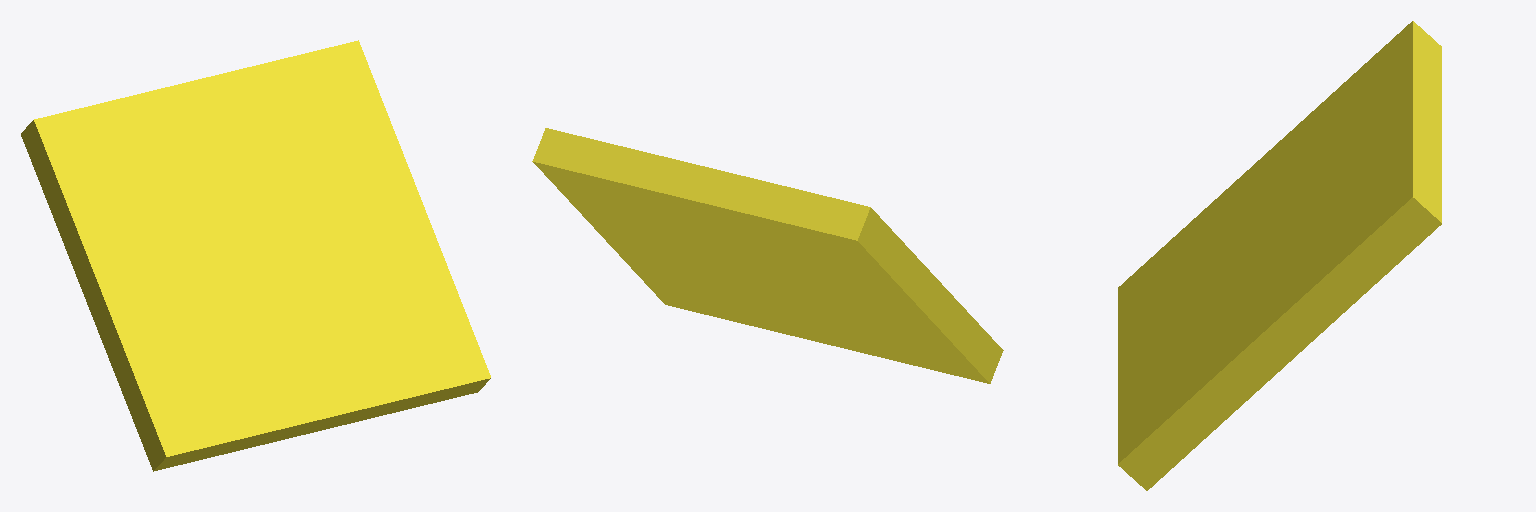
The robot description file, URDF, robot "panda":
<?xml version="1.0" encoding="utf-8"?>
<!-- =================================================================================== -->
<!-- |    This document was autogenerated by xacro from franka_description/robots/panda_arm_hand.urdf.xacro | -->
<!-- |    EDITING THIS FILE BY HAND IS NOT RECOMMENDED                                 | -->
<!-- =================================================================================== -->
<robot name="panda">
  <link name="world" />
  <joint name="ground_joint" type="fixed">
        <origin xyz="0 0 0" rpy="0 0 0" />
        <parent link="world" />
        <child link="panda_link0" />
    </joint>
  <link name="panda_link0">
    <visual>
      <geometry>
        <mesh filename="./meshes/visual/link0.dae"/>
      </geometry>
    </visual>
    <collision>
      <geometry>
        <mesh filename="./meshes/collision/link0.stl"/>
      </geometry>
    </collision>

    <inertial>
        <mass value="2.92" />
        <origin xyz="-0.025566 -2.88e-05 0.057332" rpy="0 0 0" />
        <inertia ixx="0.00782229414331" ixy="-1.56191622996e-05" ixz="-0.00126005738123" iyy="0.0109027971813" iyz="1.08233858202e-05" izz="0.0102355503949" />
      </inertial>
  </link>
  <link name="panda_link1">
    <visual>
      <geometry>
        <mesh filename="./meshes/visual/link1.dae"/>
      </geometry>
    </visual>
    <collision>
      <geometry>
        <mesh filename="./meshes/collision/link1.stl"/>
      </geometry>
    </collision>
    <inertial>
        <mass value="2.74" />
        <origin xyz="0 -0.0324958 -0.0675818" rpy="0 0 0" />
        <inertia ixx="0.0180416958283" ixy="0.0" ixz="0.0" iyy="0.0159136071891" iyz="0.0046758424612" izz="0.00620690827127" />
      </inertial>
  </link>
  <joint name="panda_joint1" type="revolute">
    <safety_controller k_position="100.0" k_velocity="40.0" soft_lower_limit="-2.8973" soft_upper_limit="2.8973"/>
    <origin rpy="0 0 0" xyz="0 0 0.333"/>
    <parent link="panda_link0"/>
    <child link="panda_link1"/>
    <axis xyz="0 0 1"/>
    <limit effort="87" lower="-2.8973" upper="2.8973" velocity="2.1750"/>
  </joint>
  <link name="panda_link2">
    <visual>
      <geometry>
        <mesh filename="./meshes/visual/link2.dae"/>
      </geometry>
    </visual>
    <collision>
      <geometry>
        <mesh filename="./meshes/collision/link2.stl"/>
      </geometry>
    </collision>
    <inertial>
        <mass value="2.74" />
        <origin xyz="0 -0.06861 0.0322285" rpy="0 0 0" />
        <inertia ixx="0.0182856182281" ixy="0.0" ixz="0.0" iyy="0.00621358421175" iyz="-0.00472844221905" izz="0.0161514346309" />
      </inertial>
  </link>
  <joint name="panda_joint2" type="revolute">
    <safety_controller k_position="100.0" k_velocity="40.0" soft_lower_limit="-1.7628" soft_upper_limit="1.7628"/>
    <origin rpy="-1.57079632679 0 0" xyz="0 0 0"/>
    <parent link="panda_link1"/>
    <child link="panda_link2"/>
    <axis xyz="0 0 1"/>
    <limit effort="87" lower="-1.7628" upper="1.7628" velocity="2.1750"/>
  </joint>
  <link name="panda_link3">
    <visual>
      <geometry>
        <mesh filename="./meshes/visual/link3.dae"/>
      </geometry>
    </visual>
    <collision>
      <geometry>
        <mesh filename="./meshes/collision/link3.stl"/>
      </geometry>
    </collision>
    <inertial>
        <mass value="2.38" />
        <origin xyz="0.0469893 0.0316374 -0.031704" rpy="0 0 0" />
        <inertia ixx="0.00771376630908" ixy="-0.00248490625138" ixz="-0.00332147581033" iyy="0.00989108008727" iyz="-0.00217796151484" izz="0.00811723558464" />
      </inertial>
  </link>
  <joint name="panda_joint3" type="revolute">
    <safety_controller k_position="100.0" k_velocity="40.0" soft_lower_limit="-2.8973" soft_upper_limit="2.8973"/>
    <origin rpy="1.57079632679 0 0" xyz="0 -0.316 0"/>
    <parent link="panda_link2"/>
    <child link="panda_link3"/>
    <axis xyz="0 0 1"/>
    <limit effort="87" lower="-2.8973" upper="2.8973" velocity="2.1750"/>
  </joint>
  <link name="panda_link4">
    <visual>
      <geometry>
        <mesh filename="./meshes/visual/link4.dae"/>
      </geometry>
    </visual>
    <collision>
      <geometry>
        <mesh filename="./meshes/collision/link4.stl"/>
      </geometry>
    </collision>
    <inertial>
        <mass value="2.38" />
        <origin xyz="-0.0360446 0.0336853 0.031882" rpy="0 0 0" />
        <inertia ixx="0.00799663881132" ixy="0.00347095570217" ixz="-0.00241222942995" iyy="0.00825390705278" iyz="0.00235774044121" izz="0.0102515004345" />
      </inertial>
  </link>
  <joint name="panda_joint4" type="revolute">
    <safety_controller k_position="100.0" k_velocity="40.0" soft_lower_limit="-3.0718" soft_upper_limit="-0.0698"/>
    <origin rpy="1.57079632679 0 0" xyz="0.0825 0 0"/>
    <parent link="panda_link3"/>
    <child link="panda_link4"/>
    <axis xyz="0 0 1"/>
    <limit effort="87" lower="-3.0718" upper="-0.0698" velocity="2.1750"/>
  </joint>
  <link name="panda_link5">
    <visual>
      <geometry>
        <mesh filename="./meshes/visual/link5.dae"/>
      </geometry>
    </visual>
    <collision>
      <geometry>
        <mesh filename="./meshes/collision/link5.stl"/>
      </geometry>
    </collision>
    <inertial>
        <mass value="2.74" />
        <origin xyz="0 0.0610427 -0.104176" rpy="0 0 0" />
        <inertia ixx="0.030371374513" ixy="6.50283587108e-07" ixz="-1.05129179916e-05" iyy="0.0288752887402" iyz="-0.00775653445787" izz="0.00444134056164" />
      </inertial>
  </link>
  <joint name="panda_joint5" type="revolute">
    <safety_controller k_position="100.0" k_velocity="40.0" soft_lower_limit="-2.8973" soft_upper_limit="2.8973"/>
    <origin rpy="-1.57079632679 0 0" xyz="-0.0825 0.384 0"/>
    <parent link="panda_link4"/>
    <child link="panda_link5"/>
    <axis xyz="0 0 1"/>
    <limit effort="12" lower="-2.8973" upper="2.8973" velocity="2.6100"/>
  </joint>
  <link name="panda_link6">
    <visual>
      <geometry>
        <mesh filename="./meshes/visual/link6.dae"/>
      </geometry>
    </visual>
    <collision>
      <geometry>
        <mesh filename="./meshes/collision/link6.stl"/>
      </geometry>
    </collision>
    <inertial>
        <mass value="1.55" />
        <origin xyz="0.0510509 0.009108 0.0106343" rpy="0 0 0" />
        <inertia ixx="0.00303336450376" ixy="-0.000437276865508" ixz="0.000629257294877" iyy="0.00404479911567" iyz="0.000130472021025" izz="0.00558234286039" />
      </inertial>
  </link>
  <joint name="panda_joint6" type="revolute">
    <safety_controller k_position="100.0" k_velocity="40.0" soft_lower_limit="-0.0175" soft_upper_limit="3.7525"/>
    <origin rpy="1.57079632679 0 0" xyz="0 0 0"/>
    <parent link="panda_link5"/>
    <child link="panda_link6"/>
    <axis xyz="0 0 1"/>
    <limit effort="12" lower="-0.0175" upper="3.7525" velocity="2.6100"/>
  </joint>
  <link name="panda_link7">
    <visual>
      <geometry>
        <mesh filename="./meshes/visual/link7.dae"/>
      </geometry>
    </visual>
    <collision>
      <geometry>
        <mesh filename="./meshes/collision/link7.stl"/>
      </geometry>
    </collision>
    <inertial>
        <mass value="0.54" />
        <origin xyz="0.0109695 0.0107965 0.0650411" rpy="0 0 0" />
        <inertia ixx="0.000888868887021" ixy="-0.00012239074652" ixz="3.98699829666e-05" iyy="0.000888001373233" iyz="-9.33825115206e-05" izz="0.0007176834609" />
      </inertial>
  </link>
  <joint name="panda_joint7" type="revolute">
    <safety_controller k_position="100.0" k_velocity="40.0" soft_lower_limit="-2.8973" soft_upper_limit="2.8973"/>
    <origin rpy="1.57079632679 0 0" xyz="0.088 0 0"/>
    <parent link="panda_link6"/>
    <child link="panda_link7"/>
    <axis xyz="0 0 1"/>
    <limit effort="12" lower="-2.8973" upper="2.8973" velocity="2.6100"/>
  </joint>
  <link name="panda_link8"/>
  <joint name="panda_joint8" type="fixed">
    <origin rpy="0 0 0" xyz="0 0 0.107"/>
    <parent link="panda_link7"/>
    <child link="panda_link8"/>
    <axis xyz="0 0 0"/>
  </joint>
  <joint name="panda_hand_joint" type="fixed">
    <parent link="panda_link8"/>
    <child link="panda_hand"/>
    <origin rpy="0 0 -0.785398163397" xyz="0 0 0"/>
  </joint>
  <link name="panda_hand">
    <visual>
      <geometry>
        <mesh filename="./meshes/visual/hand.dae"/>
      </geometry>
    </visual>
    <collision>
      <geometry>
        <mesh filename="./meshes/collision/hand.stl"/>
      </geometry>
    </collision>
  </link>
  <link name="panda_pad">
    <visual>
      <geometry>
        <box size="0.02 0.2 0.2"/>
      </geometry>
    </visual>
    <collision>
      <geometry>
        <box size="0.02 0.2 0.2"/>
      </geometry>
    </collision>
  </link>
  <joint name="panda_finger_joint1" type="fixed">
    <parent link="panda_hand"/>
    <child link="panda_pad"/>
    <origin rpy="0 0 0" xyz="0 0 0.15"/>
  </joint>
</robot>

--- Render facts (derived) ---
Views: 3 orthographic renders of the robot side by side, from view 1: azimuth 30°, elevation 25°; view 2: azimuth 150°, elevation 25°; view 3: azimuth 270°, elevation 25°.
Model panda with 12 links and 11 joints (7 revolute, 4 fixed), rooted at world, posed joints at zero except 1 at the middle of their limits (panda_joint4 = -1.57).
Visible links, largest first — view 1: panda_pad; view 2: panda_pad; view 3: panda_pad.
Link boxes in pixels (x1,y1,x2,y2): panda_pad: [21, 40, 490, 471]; panda_pad: [532, 128, 1003, 383]; panda_pad: [1118, 21, 1441, 490].
Size in the robot's own frame: 0.2 by 0.1556 by 0.1556 metres.
0 mesh visuals loaded from 9 distinct referenced files (none loaded); not drawn: 9 (reference not matched to a file when rendering).